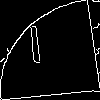I: (25, 25, 46, 72)
